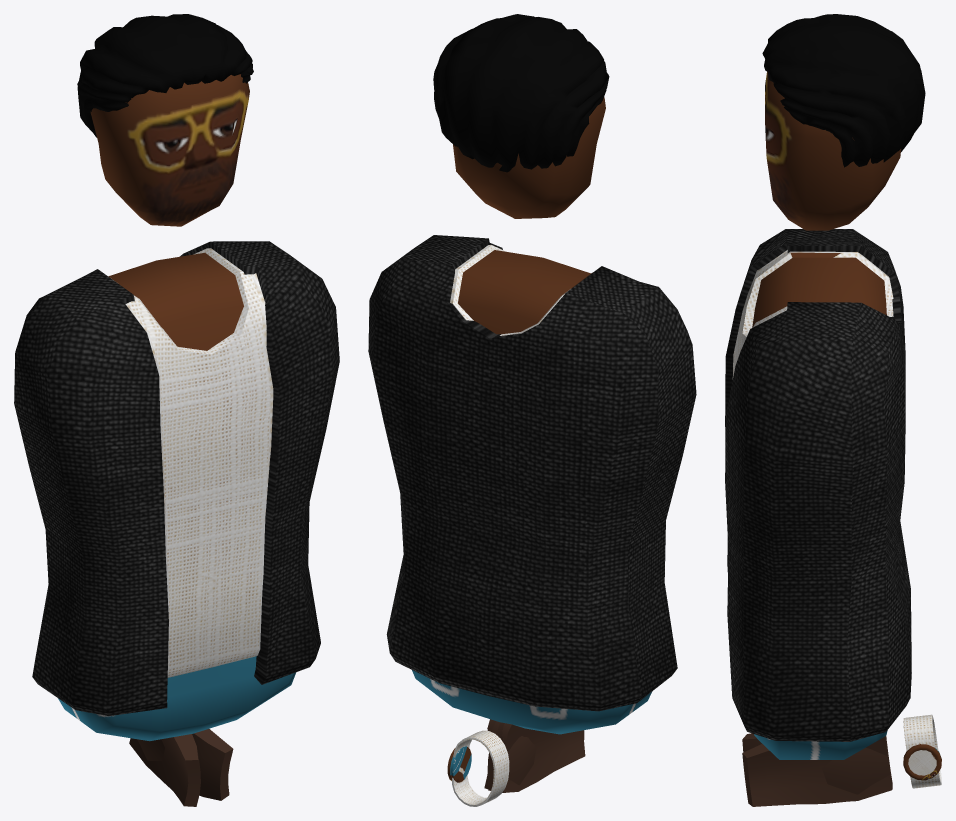
Rendered from Avatar9.fbx.
3 renders of one model, left to right at view 1: azimuth 30°, elevation 25°; view 2: azimuth 150°, elevation 25°; view 3: azimuth 270°, elevation 25°, orthographic. The views are drawn at different scales.
Visible parts, largest first — view 1: Jacket9, Body9, Head9, Hair9, HandL, HandR; view 2: Jacket9, Hair9, Body9, Head9, HandL, Watch, HandR; view 3: Jacket9, Hair9, Head9, Body9, HandR, Watch, HandL.
Boxes of the visible parts, box(x1,y1,x2,y2) form: Jacket9: box(14, 241, 339, 715); Body9: box(58, 248, 296, 741); Head9: box(90, 74, 249, 226); Hair9: box(77, 14, 253, 137); HandL: box(129, 734, 200, 806); HandR: box(137, 729, 233, 800); Jacket9: box(368, 235, 696, 711); Hair9: box(433, 14, 609, 172); Body9: box(412, 245, 652, 734); Head9: box(453, 97, 605, 218); HandL: box(487, 721, 585, 792); Watch: box(447, 730, 509, 806); HandR: box(484, 719, 536, 792); Jacket9: box(725, 229, 911, 741); Hair9: box(762, 14, 925, 167); Head9: box(765, 71, 901, 230); Body9: box(732, 250, 893, 759); HandR: box(742, 736, 892, 806); Watch: box(903, 714, 941, 788); HandL: box(742, 733, 892, 801).
Size of the model in its own units: 0.5044 by 1.26 by 0.32.
Materials: 4 (2 with a texture image).
